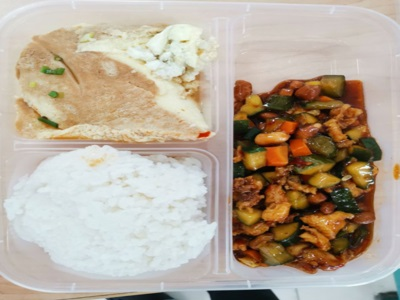gbjd: (231, 70, 370, 270)
jdg: (20, 29, 198, 144)
rice: (15, 155, 197, 273)
